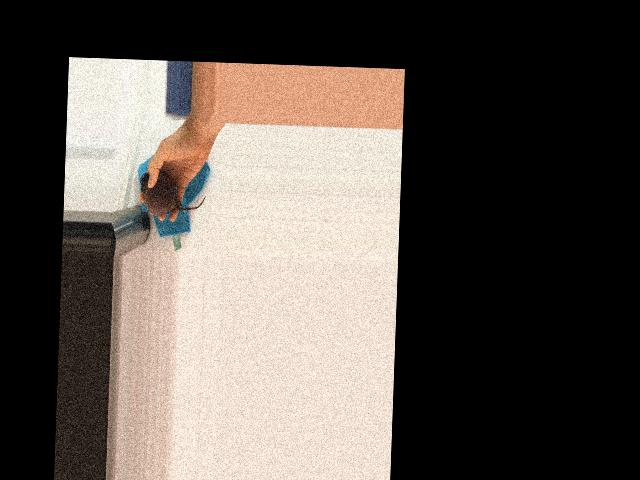beet: (139, 168, 206, 217)
